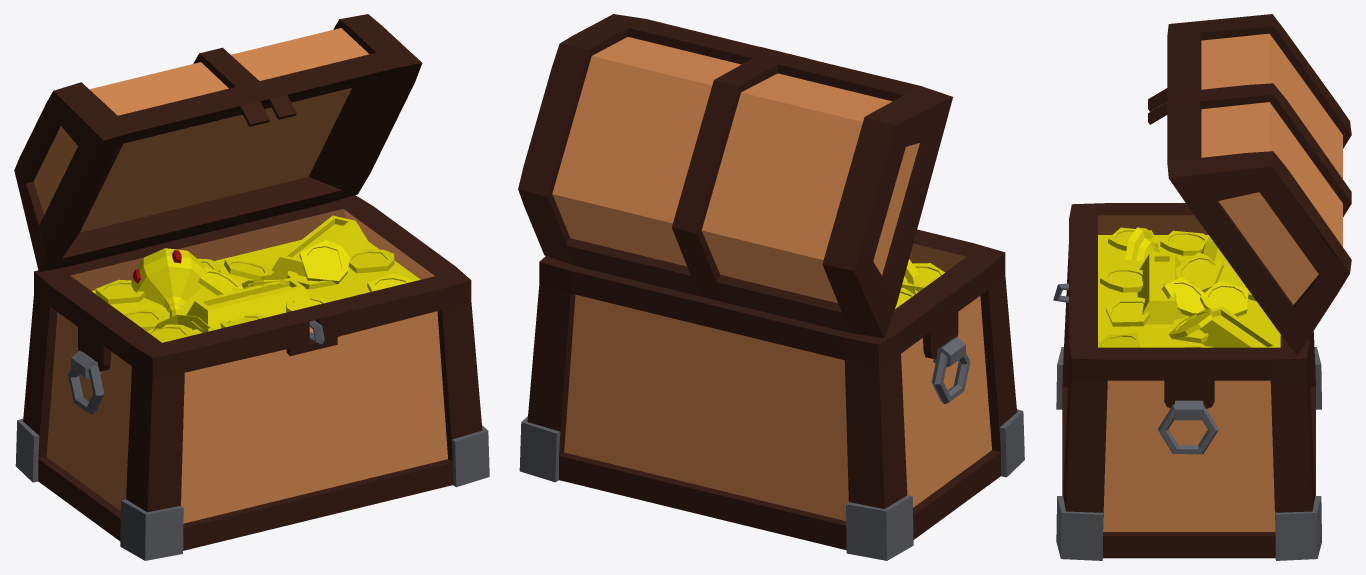
Rendered from cofre.fbx.
3 views of the same model, side by side, from view 1: azimuth 30°, elevation 25°; view 2: azimuth 150°, elevation 25°; view 3: azimuth 270°, elevation 25° (orthographic). The views are drawn at different scales.
Visible parts, largest first — view 1: chest of gold v:1,311 f:940; view 2: chest of gold v:1,311 f:940; view 3: chest of gold v:1,311 f:940.
Part boxes in pixels (x1,y1,x2,y2): chest of gold v:1,311 f:940: (14, 14, 489, 560); chest of gold v:1,311 f:940: (518, 14, 1024, 560); chest of gold v:1,311 f:940: (1053, 14, 1351, 560).
Bounding box in the file's own units: 186 × 197 × 138.
